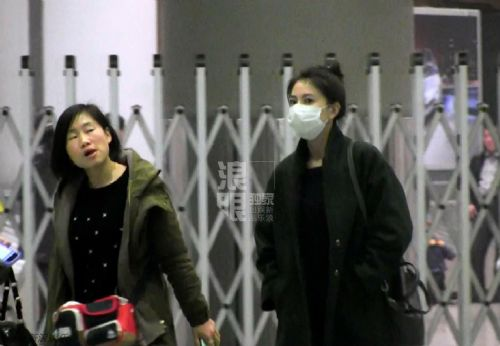face: (67, 113, 109, 166)
face_mask: (288, 82, 329, 139)
